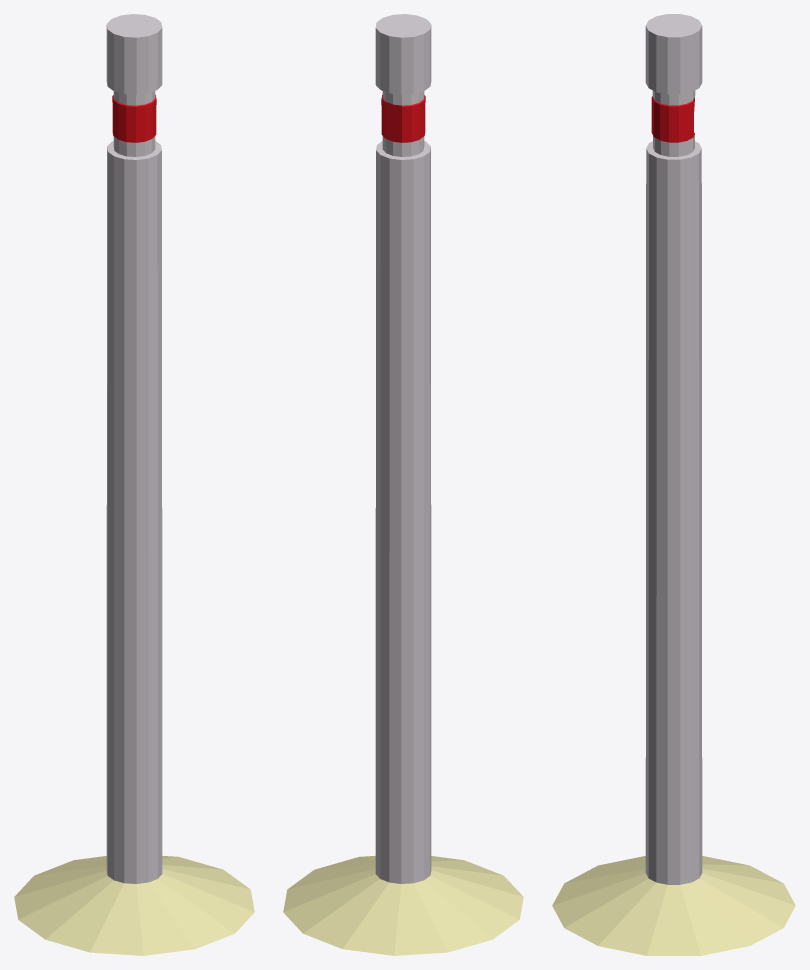
The model's file is stolbsmerti3.fbx.
3 renders of one model, left to right at view 1: azimuth 30°, elevation 25°; view 2: azimuth 150°, elevation 25°; view 3: azimuth 270°, elevation 25°, orthographic.
Visible parts, largest first — view 1: Cylinder; view 2: Cylinder; view 3: Cylinder.
Boxes of the visible parts, bbox=[...] form: Cylinder: bbox=[14, 14, 254, 955]; Cylinder: bbox=[283, 14, 523, 955]; Cylinder: bbox=[552, 14, 795, 955].
Size of the model in its own units: 25.41 by 104 by 26.06.
